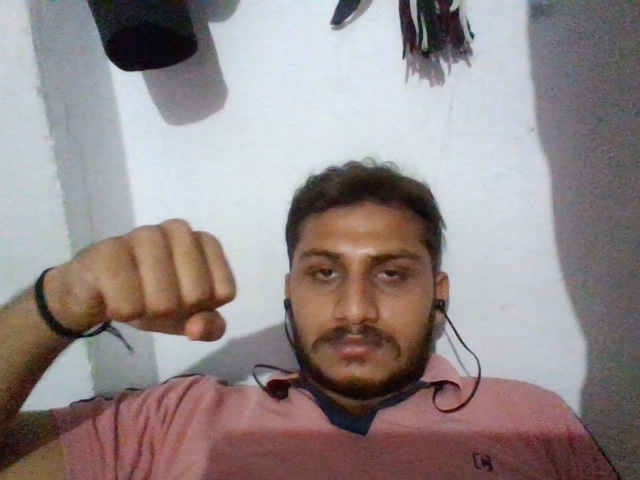Yes: (59, 202, 249, 345)
